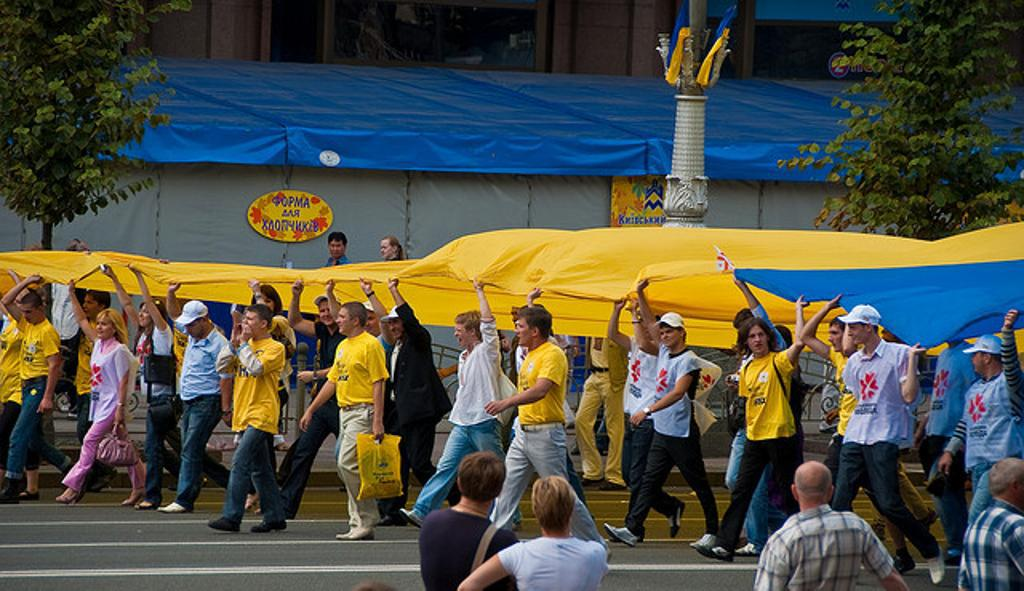face: (1010, 472, 1024, 510), (748, 328, 768, 354), (972, 346, 991, 373), (828, 324, 846, 352), (514, 319, 532, 346), (849, 318, 867, 345), (661, 324, 680, 347), (257, 294, 275, 316), (360, 311, 378, 333), (319, 301, 336, 324), (337, 309, 352, 335), (242, 313, 260, 334), (186, 317, 203, 339), (97, 315, 113, 338), (454, 323, 470, 346), (138, 305, 153, 328), (83, 295, 99, 316), (389, 318, 405, 339), (21, 306, 39, 324), (330, 240, 344, 258), (380, 241, 392, 258)
